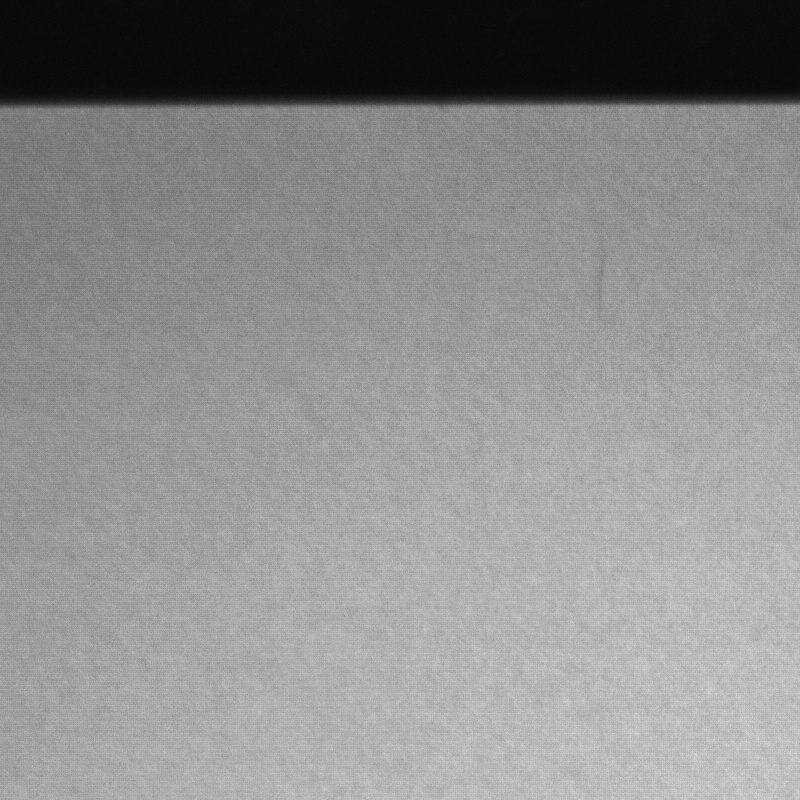defect: (596, 252, 606, 322)
